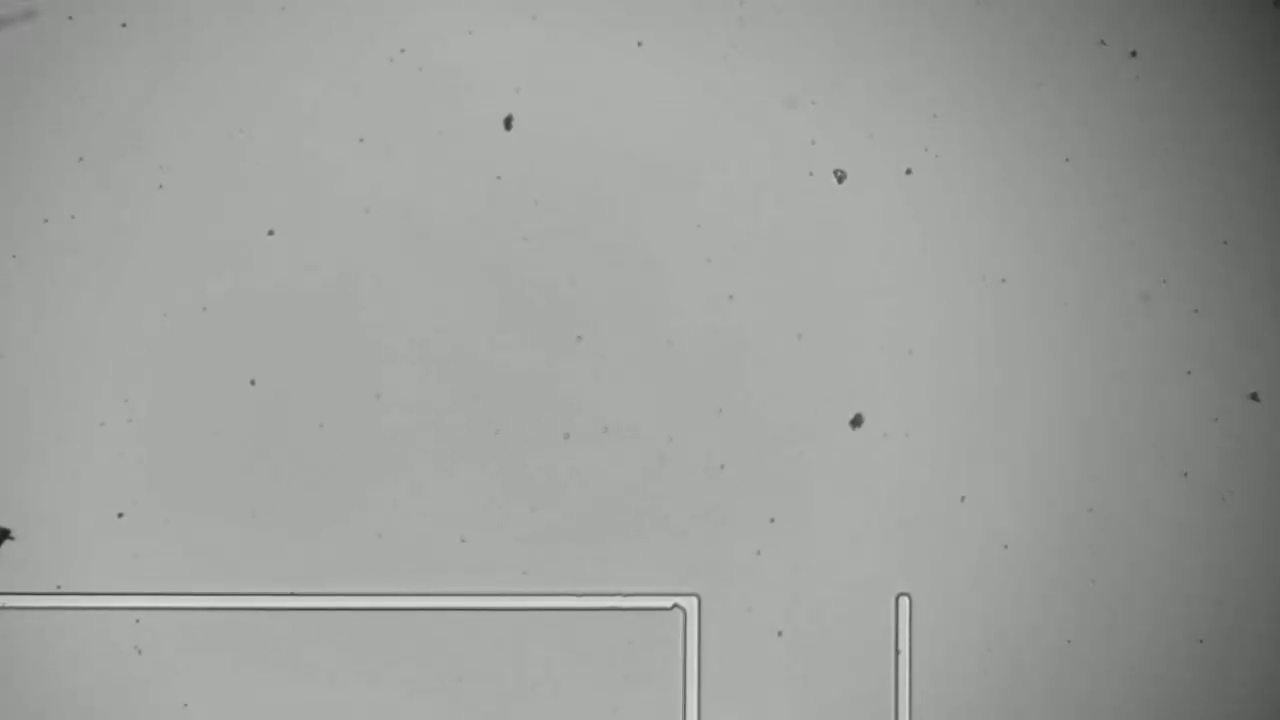edge_bite: (662, 584, 688, 617)
